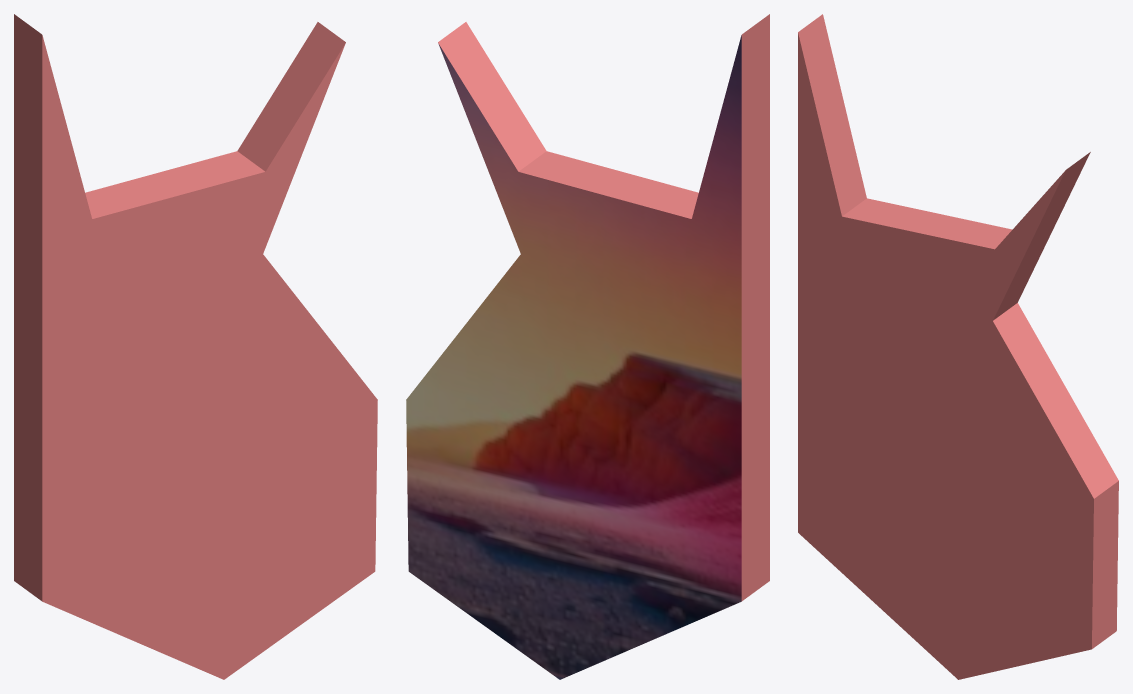
File: monde6.glb
3 views of the same model, side by side, from view 1: azimuth 30°, elevation 25°; view 2: azimuth 150°, elevation 25°; view 3: azimuth 330°, elevation 25° (orthographic). The views are drawn at different scales.
Visible parts, largest first — view 1: Plane.007; view 2: Plane.007; view 3: Plane.007.
Boxes of the visible parts, x1,y1,x2,y2 form: Plane.007: [14, 14, 377, 679]; Plane.007: [406, 14, 769, 679]; Plane.007: [798, 14, 1118, 679].
Bounding box in the file's own units: 33.72 × 66.25 × 4.92.
Materials: 2 (1 with a texture image).
